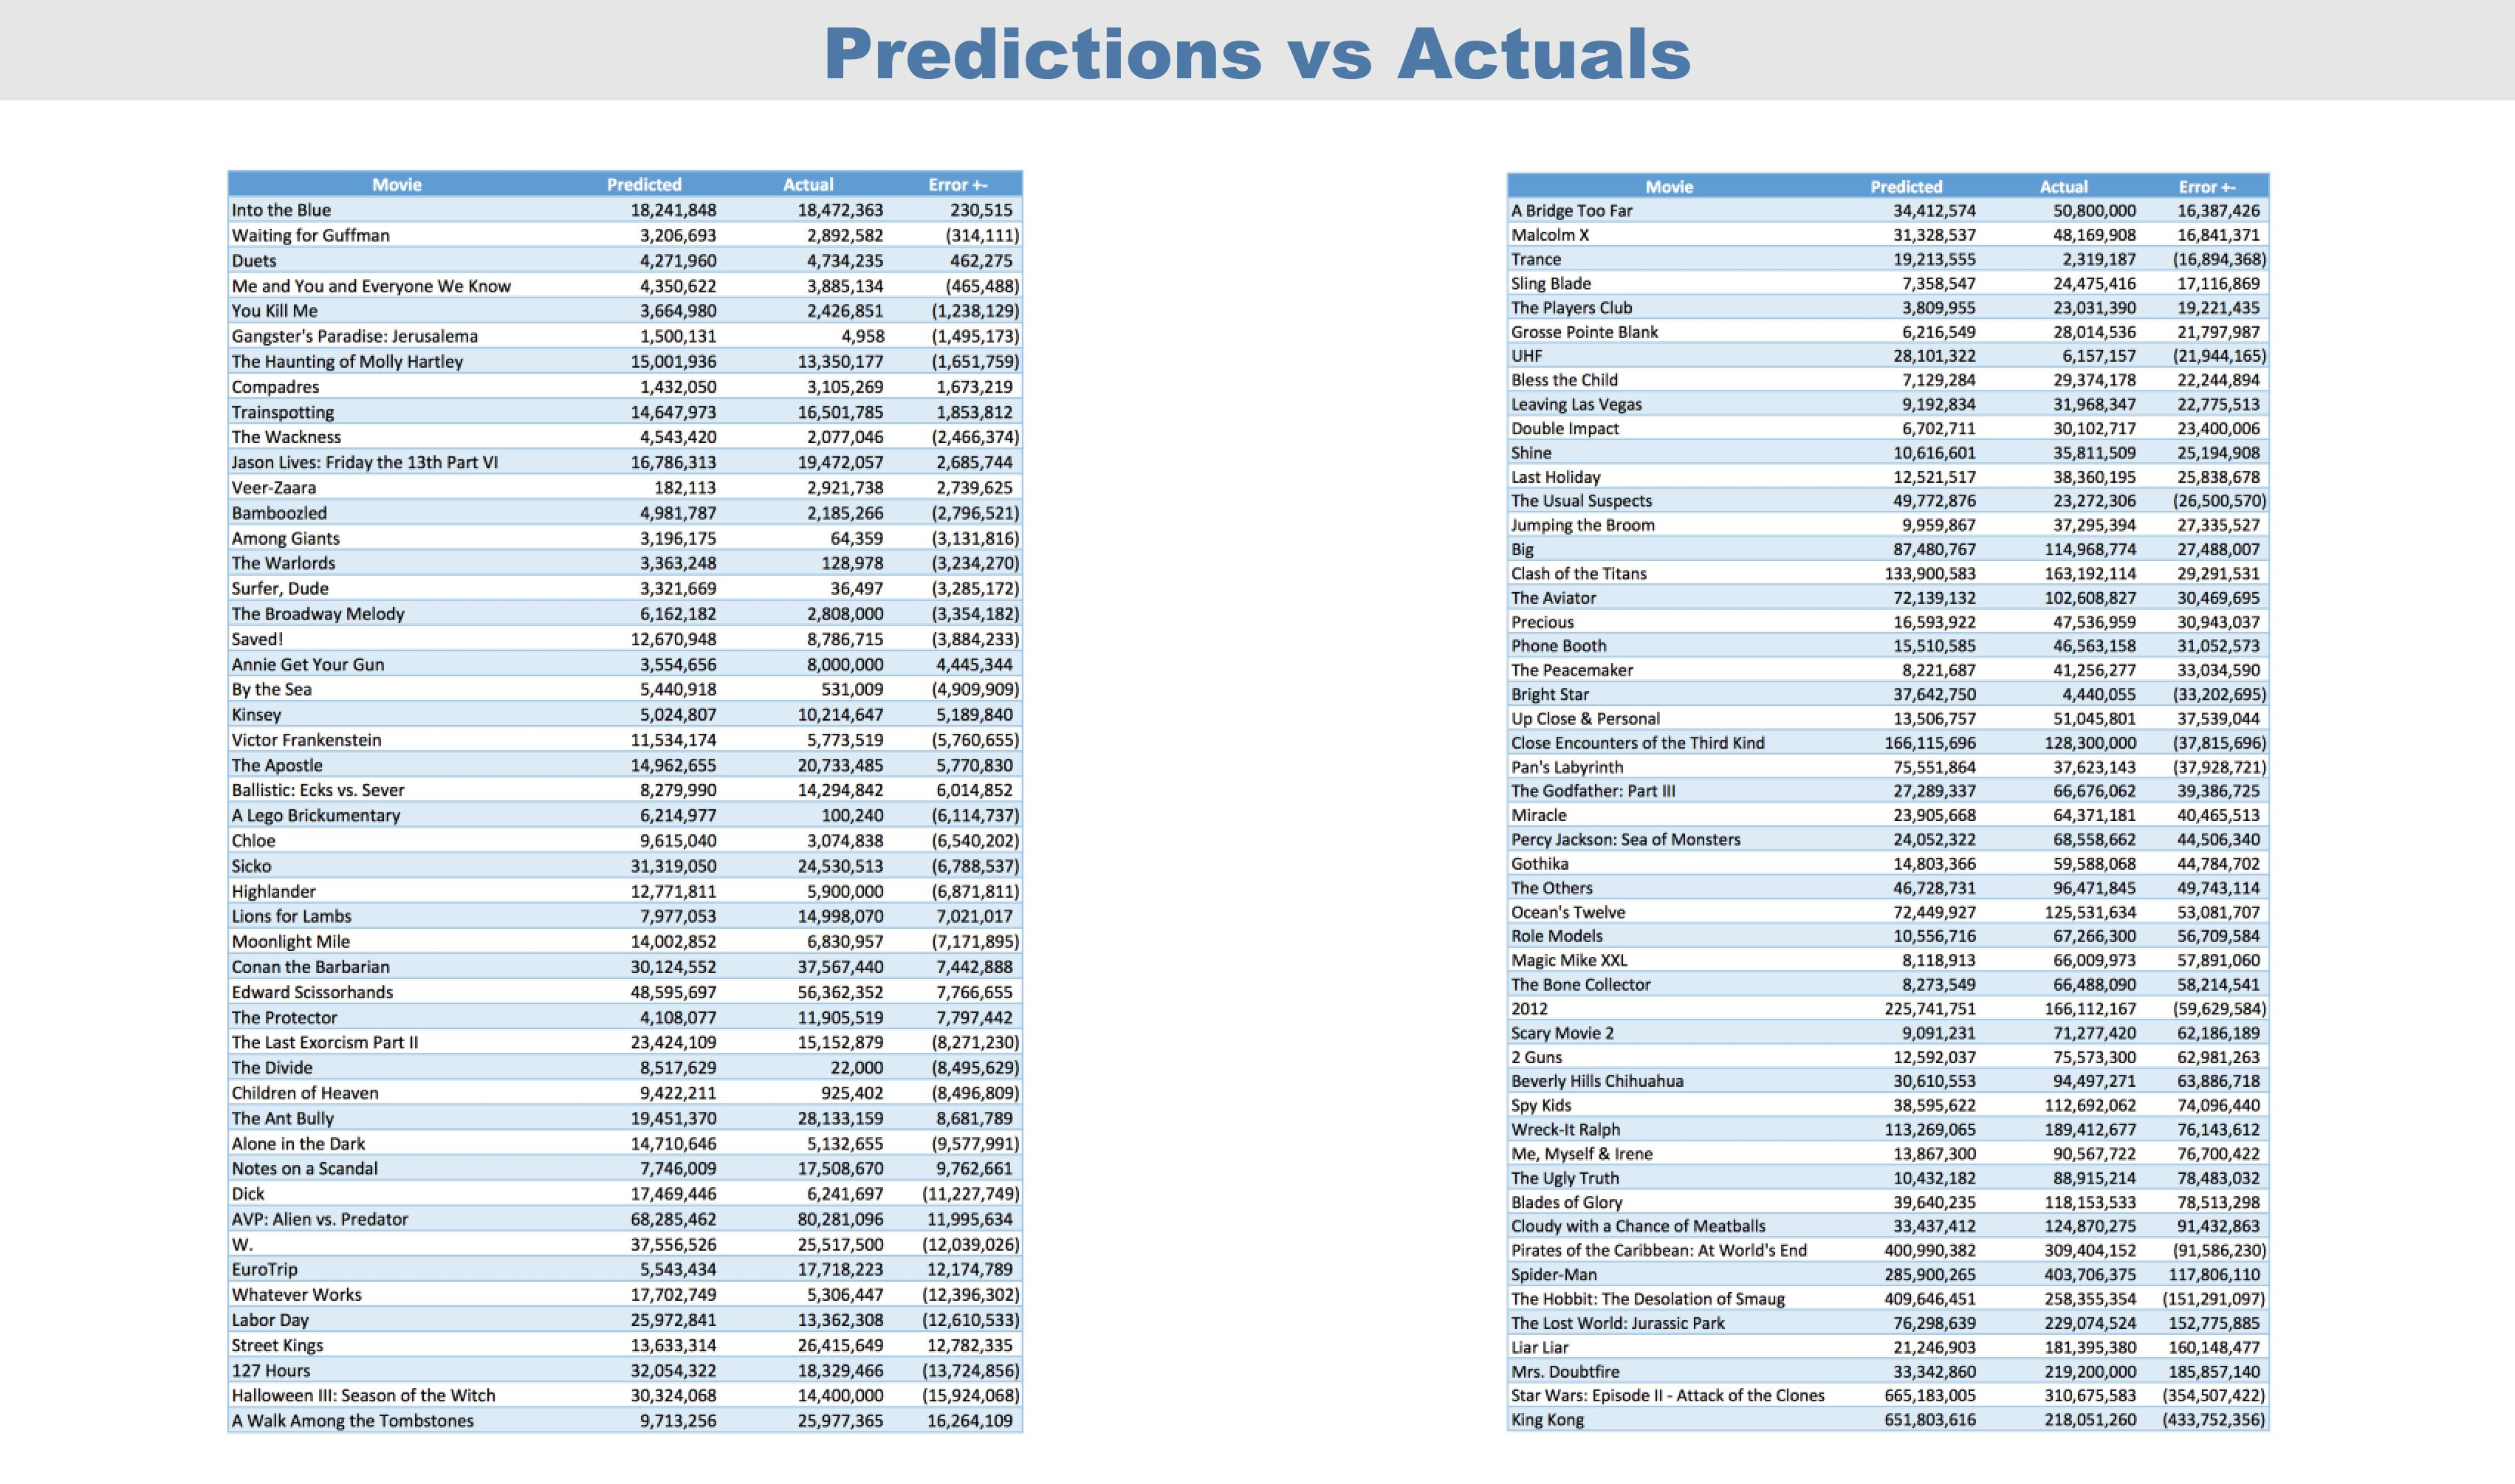

The page's visual inventory and layout, read from the dashboard file:
{"tool":"tableau","page":{"name":"Predicted vs Actuals","canvas":[1000,1000],"units":"permille","ordinal":2},"visuals":[{"type":"text","box":[0,0,1000,166.5]},{"type":"image","param":"/Users/johnrivas/Desktop/Screen Shot 2016-12-04 at 2.50.49 PM.png","box":[0,166.5,1000,224.3]},{"type":"image","param":"/Users/johnrivas/Desktop/Screen Shot 2016-12-04 at 2.55.54 PM.png","box":[0,390.8,648.1,301.7]},{"type":"image","param":"/Users/johnrivas/OneDrive - University of Houston Downtown/SCHOOL/Fall 2016/Time","box":[648.1,390.8,351.9,301.7]},{"type":"image","param":"/Users/johnrivas/Desktop/Screen Shot 2016-12-04 at 2.53.50 PM.png","box":[0,692.5,1000,307.5]}]}

Visuals, with their boxes on the dashboard's canvas, which has no fixed pixel size, in thousandths of its width and height (x1, y1, x2, y2). These are canvas units, not pixel positions in the 2515x1484 screenshot, which may show the page scaled, cropped or inside an application window:
text: <bbox>0, 0, 1000, 166</bbox>
image: <bbox>0, 166, 1000, 391</bbox>
image: <bbox>0, 391, 648, 692</bbox>
image: <bbox>648, 391, 1000, 692</bbox>
image: <bbox>0, 692, 1000, 1000</bbox>
